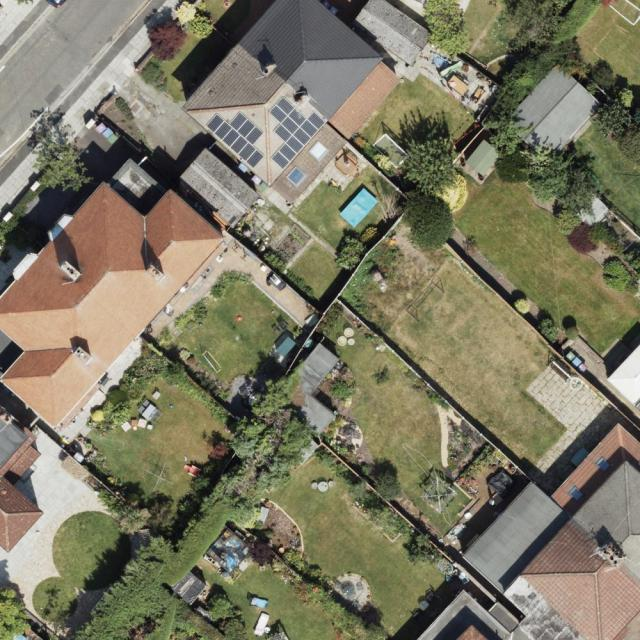roof: (1, 148, 264, 430), (182, 0, 433, 211), (413, 426, 640, 640), (502, 65, 603, 161), (0, 410, 45, 554), (606, 341, 640, 411)
skylight: (287, 164, 308, 189), (308, 140, 331, 162), (567, 485, 584, 502), (595, 456, 612, 473)
solar: (270, 96, 326, 171), (204, 111, 264, 167)
